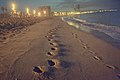human_footprint: (47, 30, 69, 70), (33, 66, 54, 79), (72, 33, 88, 48), (104, 64, 119, 78), (48, 59, 70, 68), (32, 66, 46, 79), (47, 59, 59, 67), (105, 64, 116, 69), (47, 52, 57, 56), (93, 55, 101, 60), (49, 41, 58, 45), (51, 47, 60, 51), (48, 38, 53, 40)
